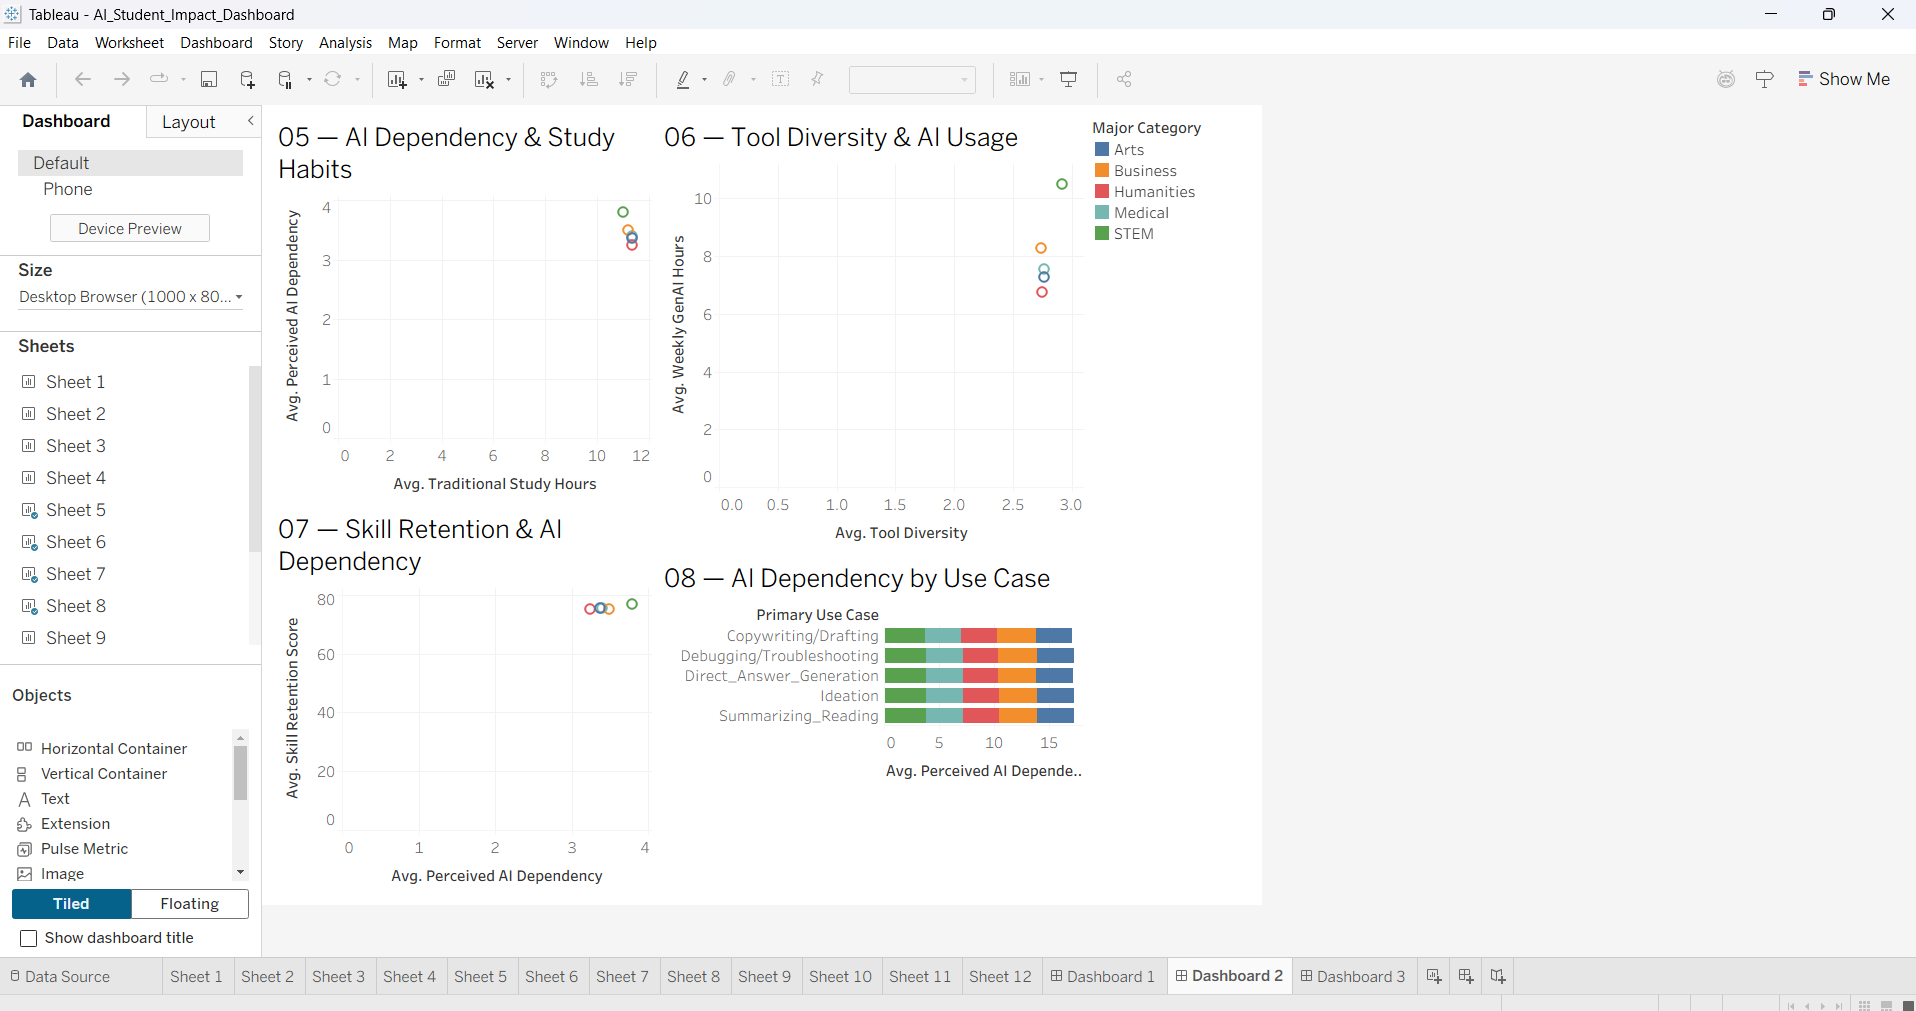

The dashboard page shown, as its layout file describes it:
{"tool":"tableau","page":{"name":"Dashboard 2","canvas":[1000,800],"ordinal":1},"visuals":[{"type":"worksheet","title":"Sheet 5","mark":"Automatic","rows":["Perceived_AI_Dependency"],"cols":["Traditional_Study_Hours"],"box":[8,8,386,392]},{"type":"worksheet","title":"Sheet 6","mark":"Automatic","rows":["Weekly_GenAI_Hours"],"cols":["Tool_Diversity"],"box":[394,8,432,441]},{"type":"legend","title":"Sheet 5","param":"[federated.0zc7qex0z2ube118zi30t0feg6gn].[none:Major_Category:nk]","box":[826,8,166,135]},{"type":"worksheet","title":"Sheet 7","mark":"Automatic","rows":["Skill_Retention_Score"],"cols":["Perceived_AI_Dependency"],"box":[8,400,386,392]},{"type":"worksheet","title":"Sheet 8","mark":"Bar","rows":["Primary_Use_Case"],"cols":["Perceived_AI_Dependency"],"box":[394,449,432,343]}]}

Visuals, with their boxes on the page's 1000x800 design canvas (x1, y1, x2, y2). These are canvas units, not pixel positions in the 1916x1011 screenshot, which may show the page scaled, cropped or inside an application window:
"Sheet 5" worksheet: l=8, t=8, r=394, b=400
"Sheet 6" worksheet: l=394, t=8, r=826, b=449
"Sheet 5" legend: l=826, t=8, r=992, b=143
"Sheet 7" worksheet: l=8, t=400, r=394, b=792
"Sheet 8" worksheet (Bar marks): l=394, t=449, r=826, b=792
